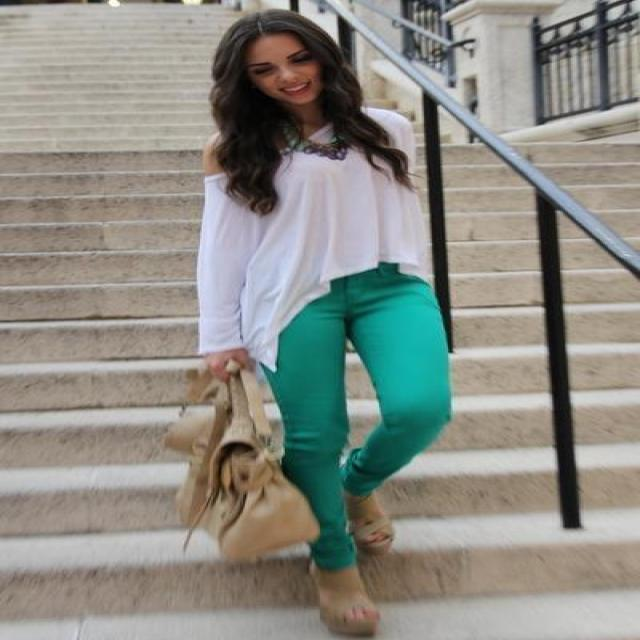bag: (170, 371, 318, 561)
pants: (261, 268, 453, 570)
shirt: (188, 125, 434, 370)
shoe: (300, 492, 402, 625)
